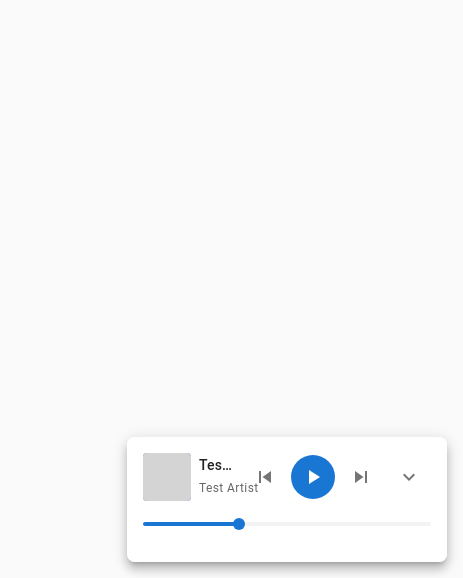
Test: MusicPlayer › Mini Mode › can expand to full view
The image size is (463, 578).
Note: Find expand button by its aria-label
Click the button named "Expand" at point(409, 477), box x1=387 y1=455 x2=431 y2=499
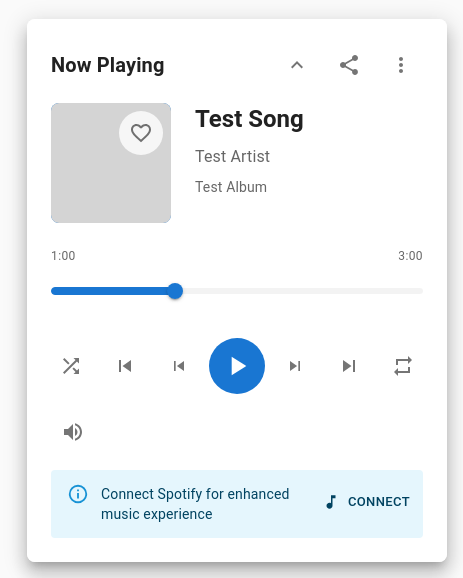
Result: the heading "Now Playing" is shown at x1=51 y1=49 x2=164 y2=81
